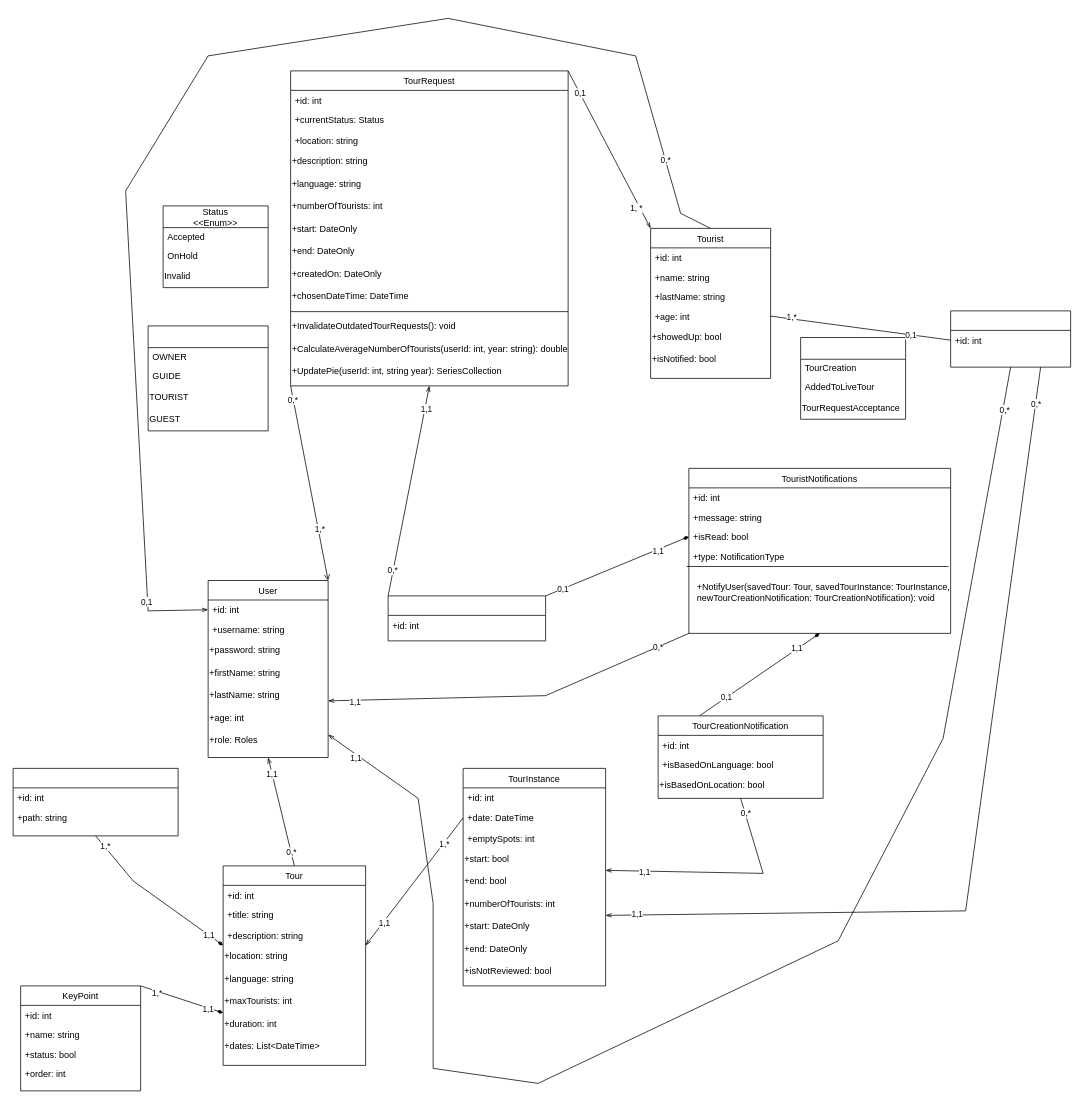
This 1084x1104 diagram has some shape labels left out. The shapes that lost their labels are listed below. From the top down, each one's box as (x1, y1, x2, y2) in pixels, then its label:
(950, 310, 1071, 367): TourReservation
(147, 325, 268, 431): Role <<Enum>>
(800, 337, 906, 419): NotificationType <<Enum>>
(387, 595, 546, 641): TourRequestAcceptanceNotification
(12, 768, 178, 836): Picture
